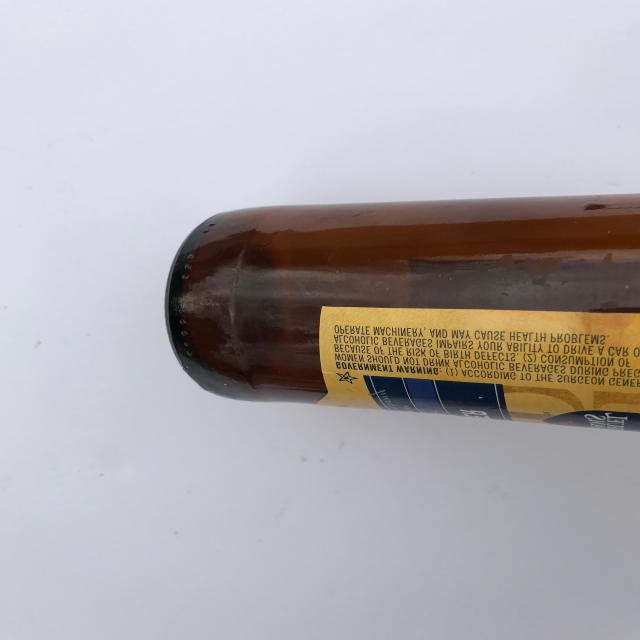glass: (164, 192, 640, 433)
